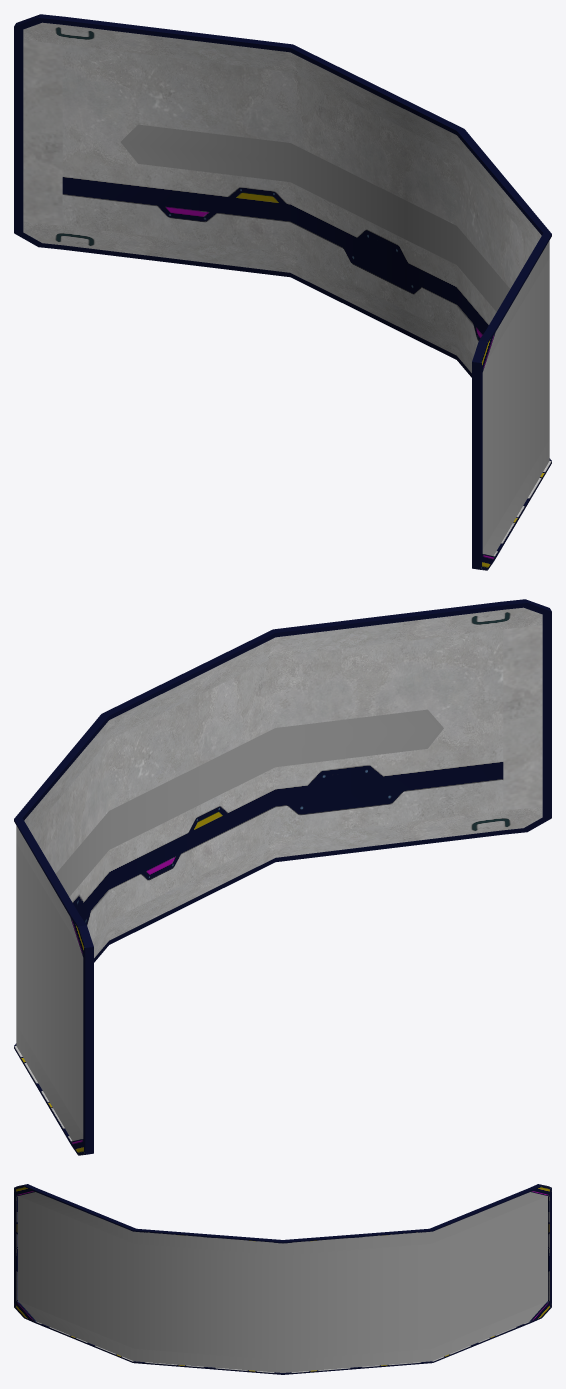
The model's file is Museum_Ad_Projector_02_Art.fbx.
3 views of the same model, one above another, from view 1: azimuth 30°, elevation 25°; view 2: azimuth 150°, elevation 25°; view 3: azimuth 270°, elevation 25° (orthographic). The views are drawn at different scales.
Parts seen in each view (by area): view 1: Museum_Ad_Projector_02_a; view 2: Museum_Ad_Projector_02_a; view 3: Museum_Ad_Projector_02_a.
Part boxes in pixels (x1,y1,x2,y2): Museum_Ad_Projector_02_a: (14,14,551,570); Museum_Ad_Projector_02_a: (14,599,551,1155); Museum_Ad_Projector_02_a: (14,1184,551,1374).
Bounding box in the file's own units: 217 × 215 × 788.
3 materials, 1 textured.
